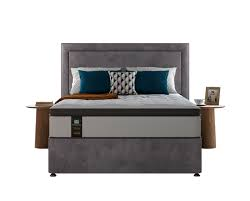bed-matress: (47, 89, 204, 139)
